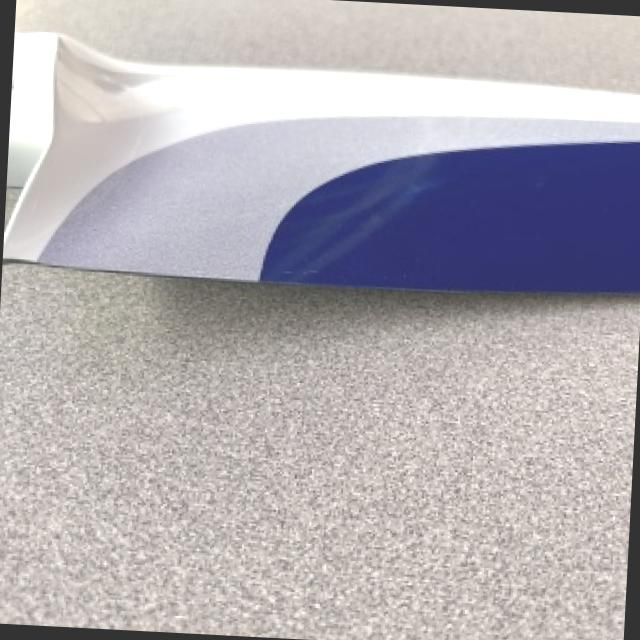healthy: (3, 33, 640, 290)
